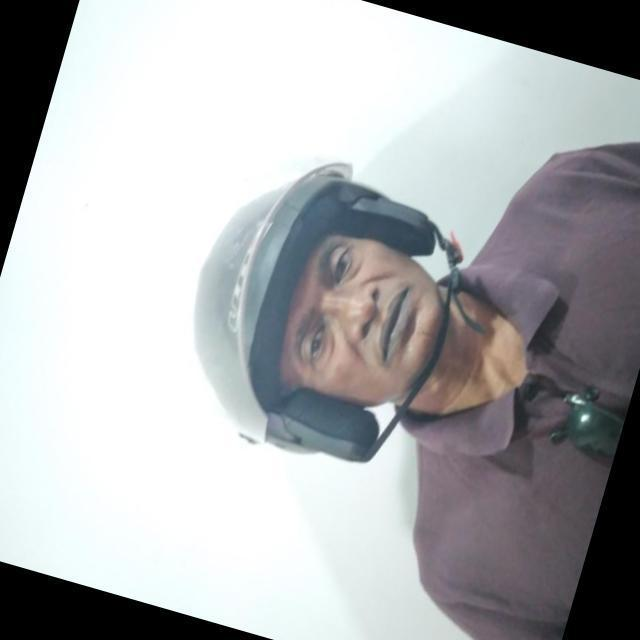with_helmet: (196, 162, 448, 452)
